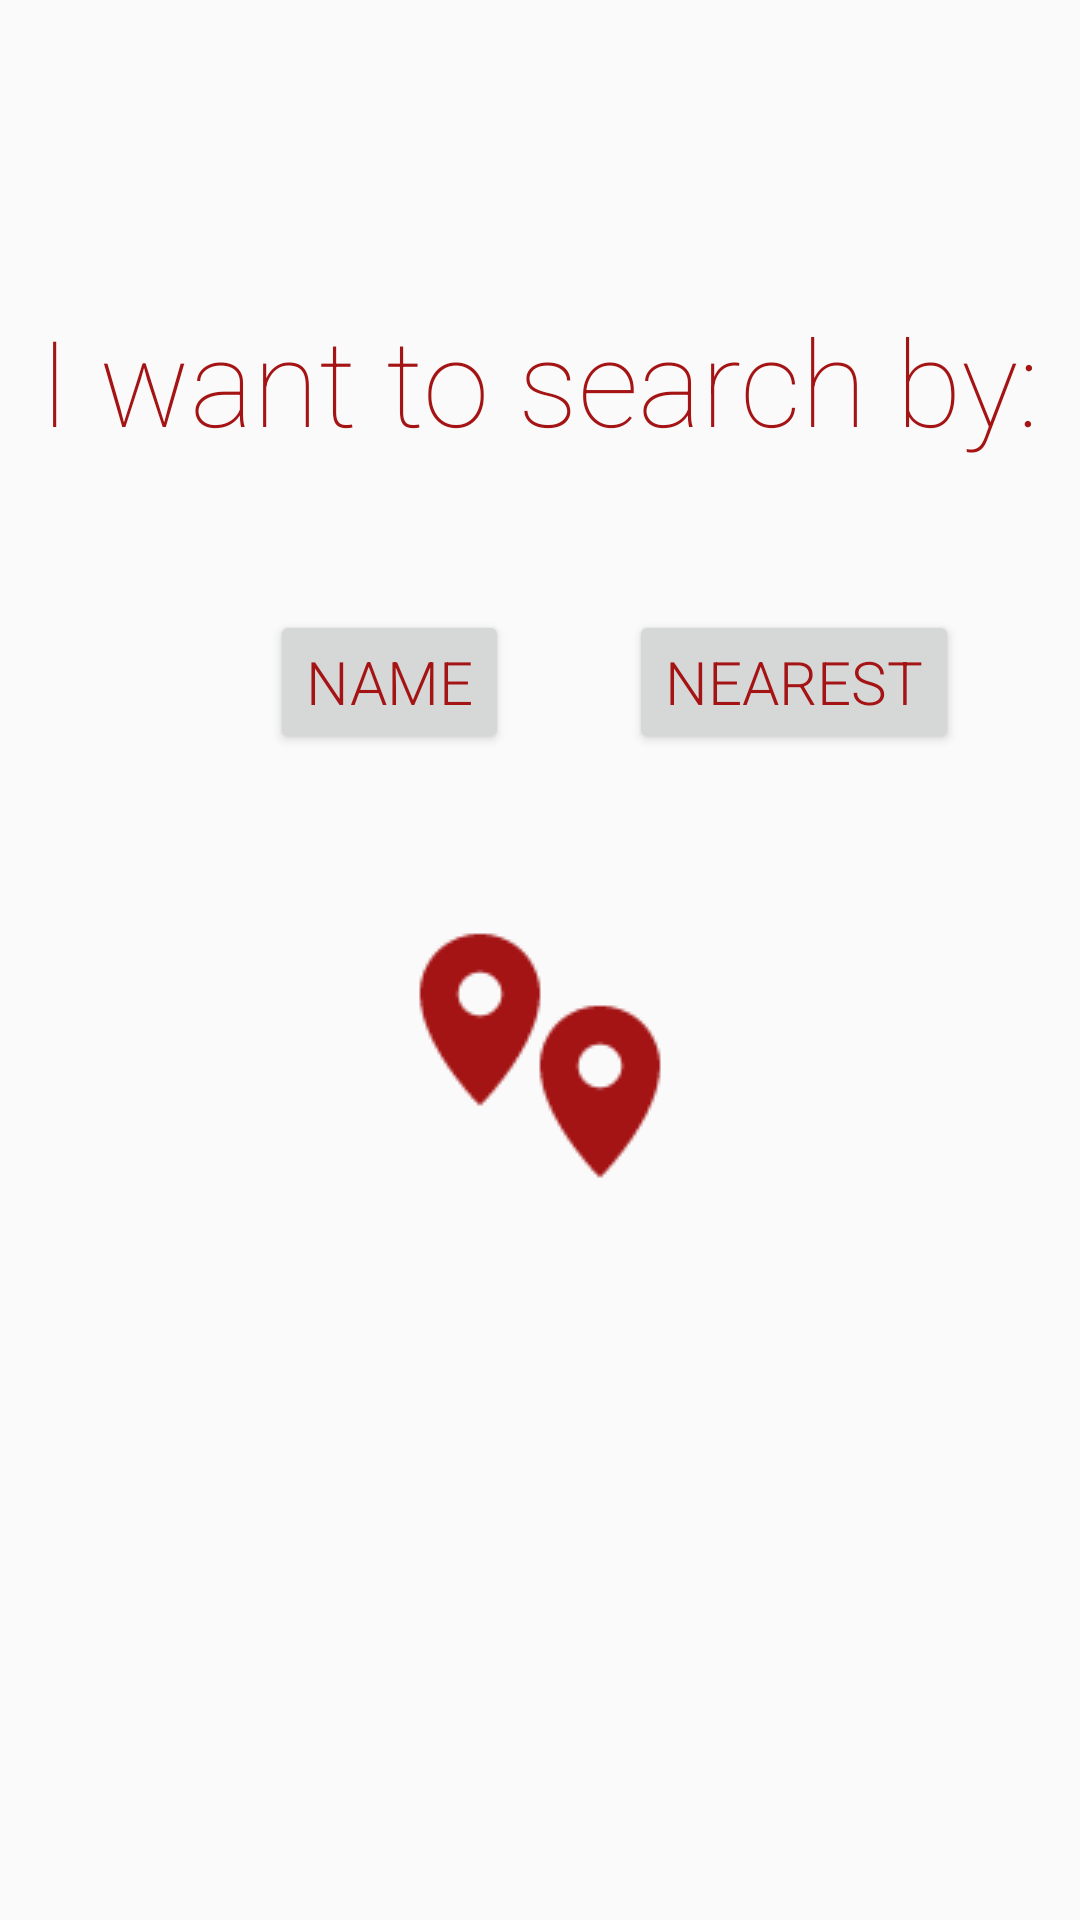

Icon click points for this 1080x1920 phone screenshot, format (x=x, y=y):
point: (x=540, y=1055)
